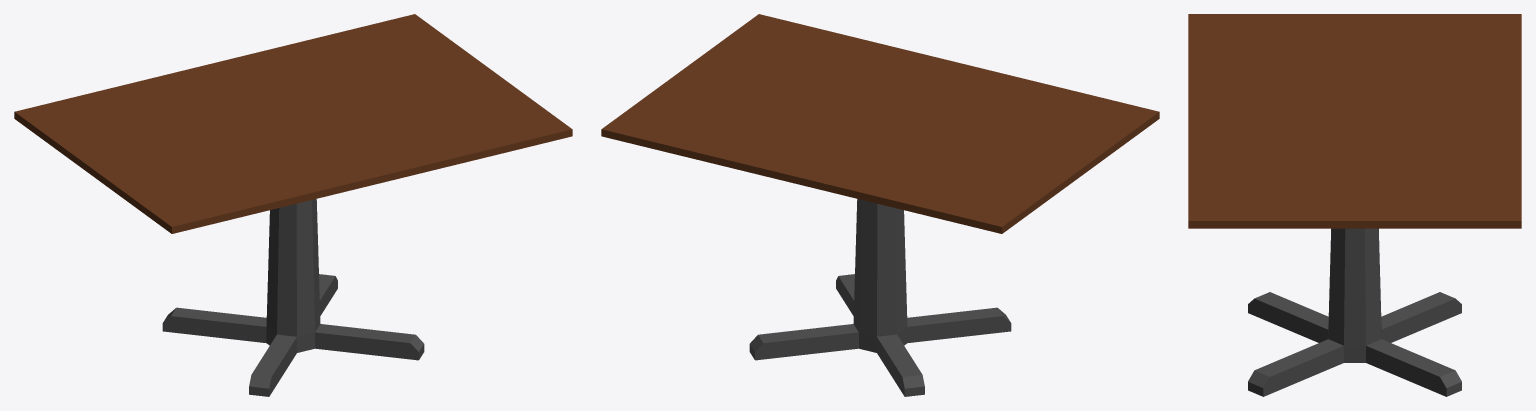
The model's file is Table01.fbx.
3 renders of one model, left to right at view 1: azimuth 30°, elevation 25°; view 2: azimuth 150°, elevation 25°; view 3: azimuth 270°, elevation 25°, orthographic. The views are drawn at different scales.
Visible parts, largest first — view 1: Table01; view 2: Table01; view 3: Table01.
Boxes of the visible parts, x1,y1,x2,y2 form: Table01: [14, 14, 572, 396]; Table01: [601, 14, 1159, 396]; Table01: [1188, 14, 1521, 396].
Bounding box in the file's own units: 147 × 77.5 × 100.
